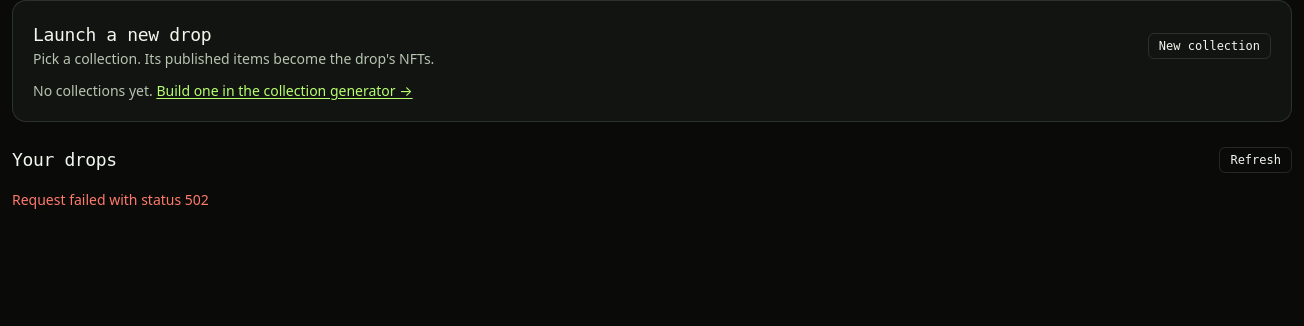
Test: DropsDashboard › reports a load failure and can refresh
Check: the message shows "502", box [12,190,209,209]
Click the button "Refresh" at [1256, 160], box [1219,147,1292,173]
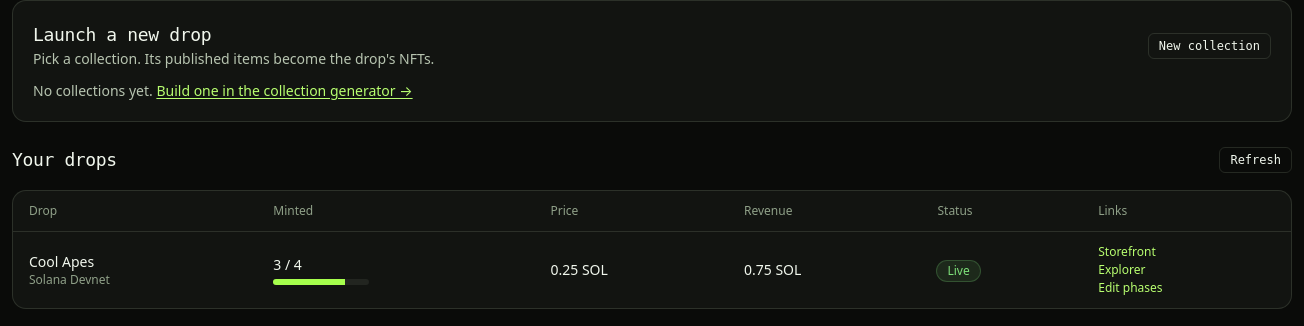
Check: the text "Cool Apes" is shown, box [29,252,94,271]
Check: the message "Request failed with status 502" is gone
